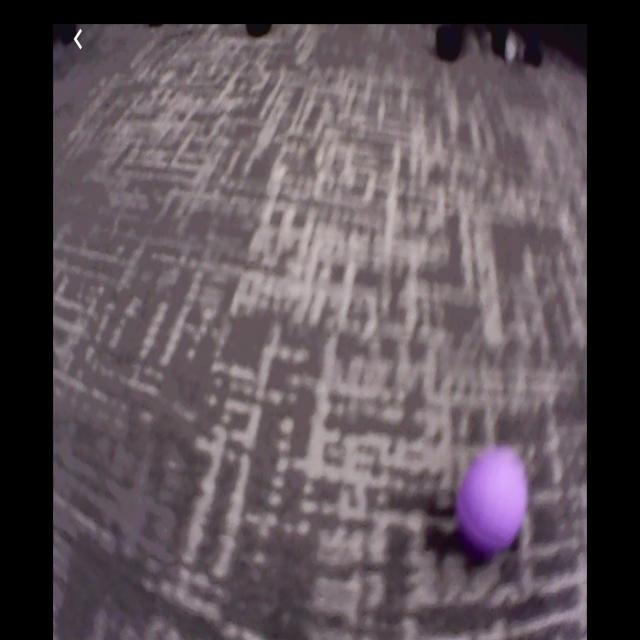ball: (462, 447, 530, 553)
